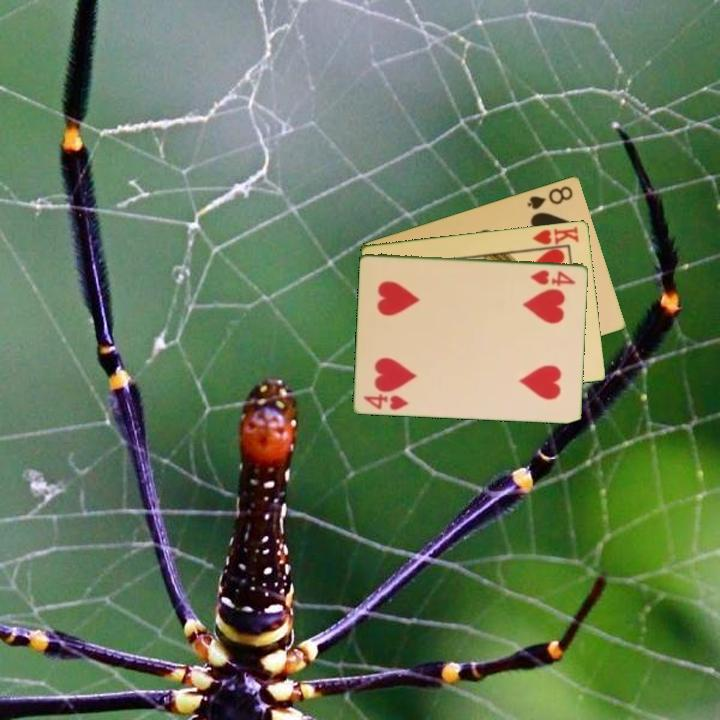4h: (360, 390, 411, 413), (527, 266, 578, 287)
8s: (524, 182, 576, 212)
Kh: (528, 222, 582, 252)
